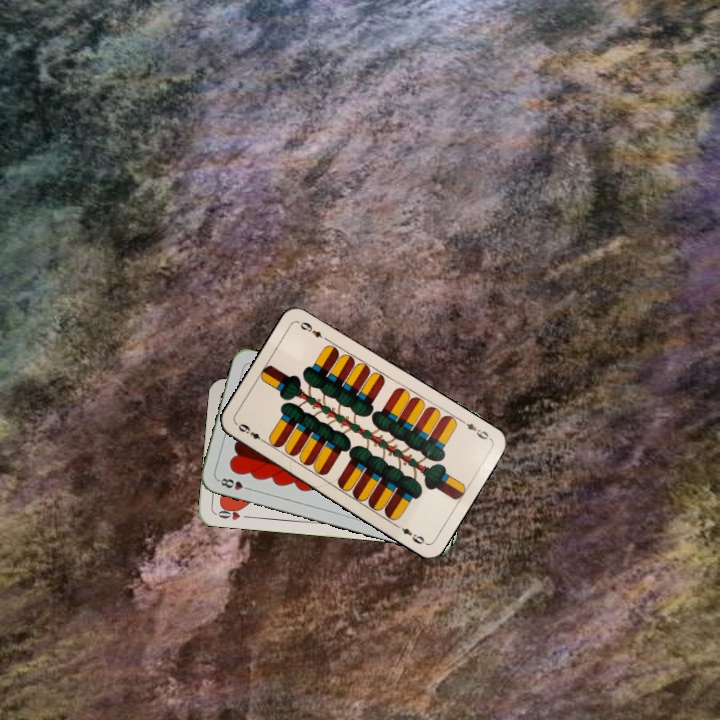E9: (232, 419, 269, 446), (457, 416, 493, 442)
H8: (214, 474, 254, 493)
HO: (212, 503, 253, 522)
